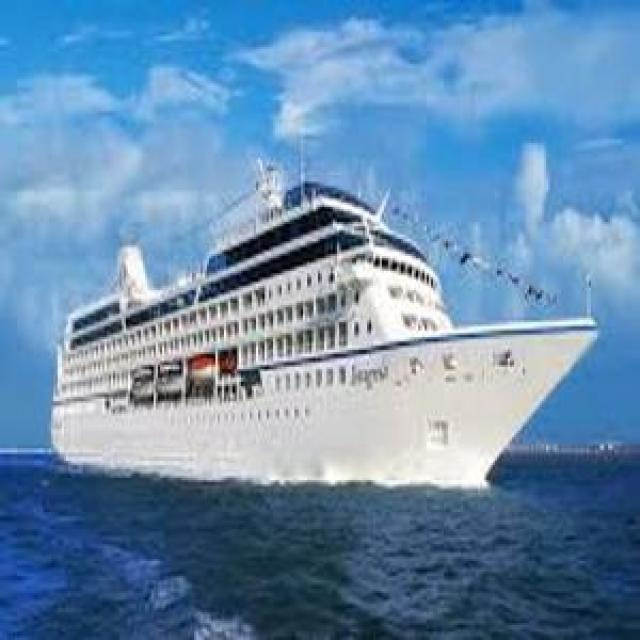passenger ship: (43, 162, 605, 494)
